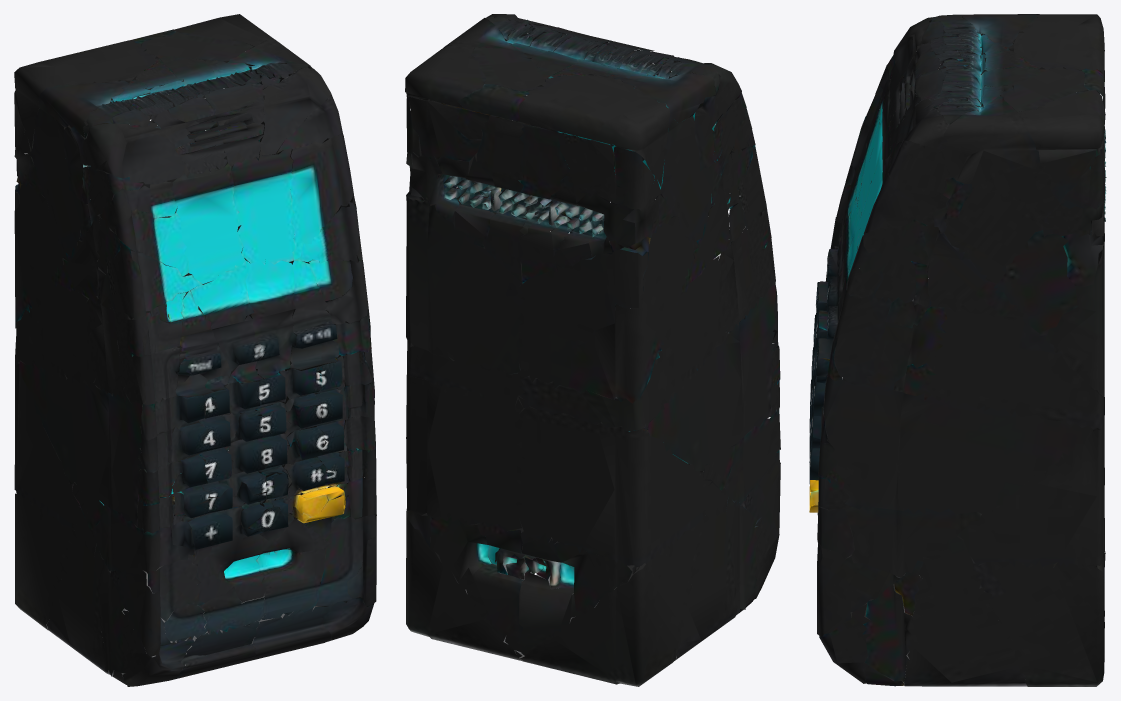
Rendered from co_terminal_p.glb.
The picture shows the model from 3 angles, left to right: view 1: azimuth 30°, elevation 25°; view 2: azimuth 150°, elevation 25°; view 3: azimuth 270°, elevation 25°; orthographic projection. The views are drawn at different scales.
Visible parts, largest first — view 1: Mesh_0; view 2: Mesh_0; view 3: Mesh_0.
Part boxes in pixels (x1,y1,x2,y2): Mesh_0: (14,14,376,686); Mesh_0: (405,14,780,686); Mesh_0: (809,14,1106,686).
Bounding box in the file's own units: 0.8466 × 1.9 × 0.9034.
1 material, 1 textured.
